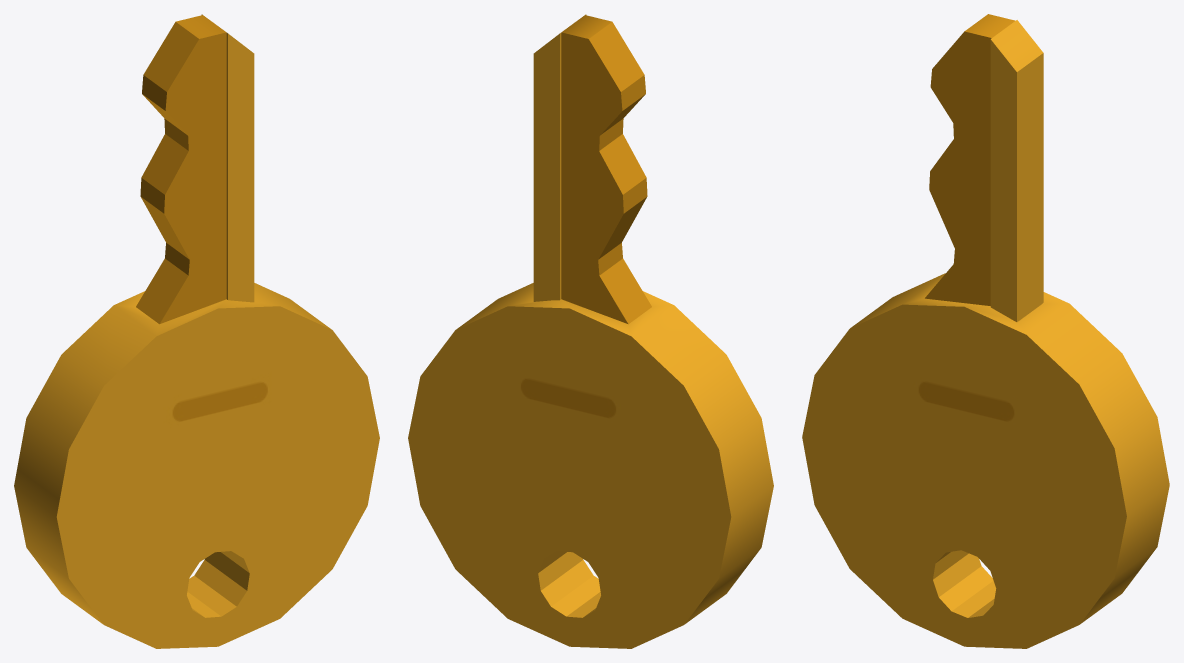
File: MEC0210001.fbx
The picture shows the model from 3 angles, left to right: view 1: azimuth 30°, elevation 25°; view 2: azimuth 150°, elevation 25°; view 3: azimuth 330°, elevation 25°; orthographic projection.
Parts seen in each view (by area): view 1: smMEC0210001; view 2: smMEC0210001; view 3: smMEC0210001.
Part boxes in pixels (<box>): smMEC0210001: <box>14,14,379,648</box>; smMEC0210001: <box>408,14,773,648</box>; smMEC0210001: <box>802,14,1169,648</box>.
Size of the model in its own units: 36.3 by 64.72 by 8.3.
1 material, 1 textured.
